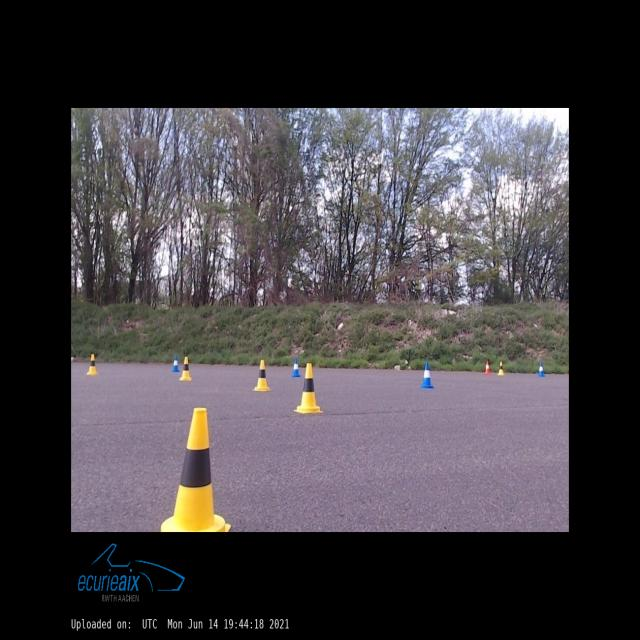blue_cone: (421, 362, 434, 388), (292, 358, 301, 377), (172, 354, 180, 372), (537, 362, 545, 377)
orange_cone: (484, 361, 491, 373)
yellow_cone: (162, 408, 230, 532), (294, 364, 323, 413), (253, 360, 271, 391), (179, 356, 192, 380), (87, 354, 97, 375), (498, 362, 504, 374)
